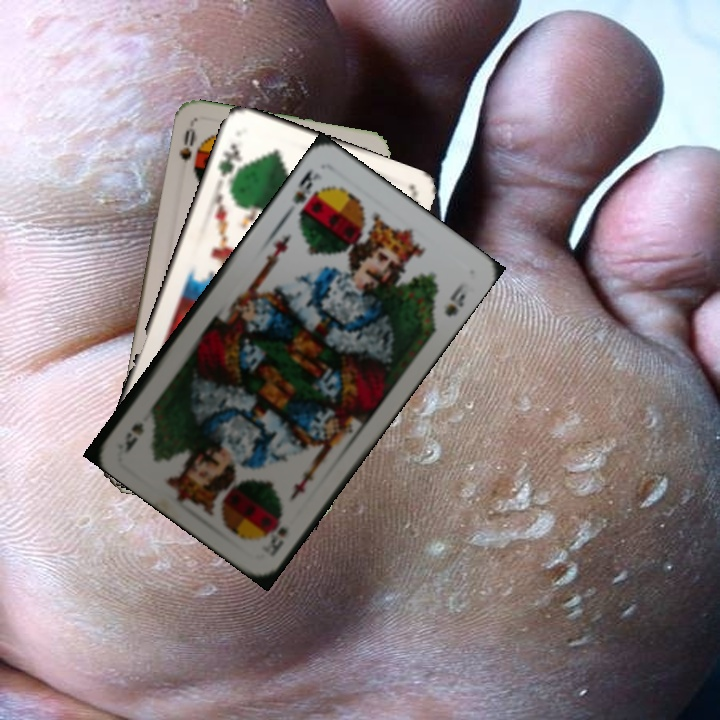GK: (214, 140, 245, 186)
SK: (288, 164, 325, 218), (258, 509, 291, 559)
SO: (174, 124, 198, 164)
